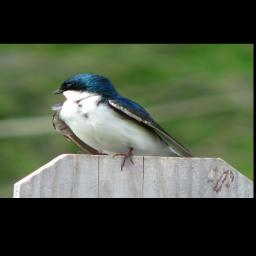Swallow: (49, 72, 197, 172)
